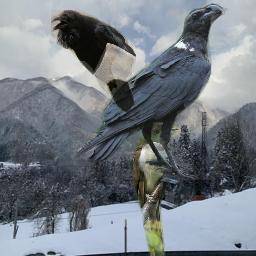Crow: (73, 2, 228, 180), (51, 10, 136, 114)
Cuckoo: (133, 119, 179, 256)
